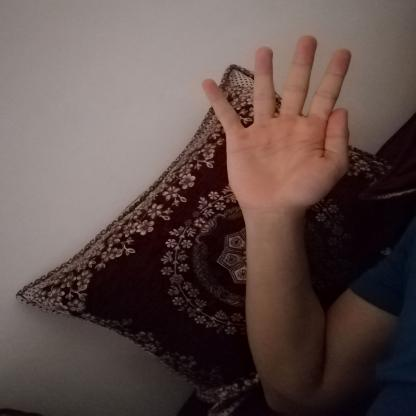SHEEN: (188, 25, 361, 216)
